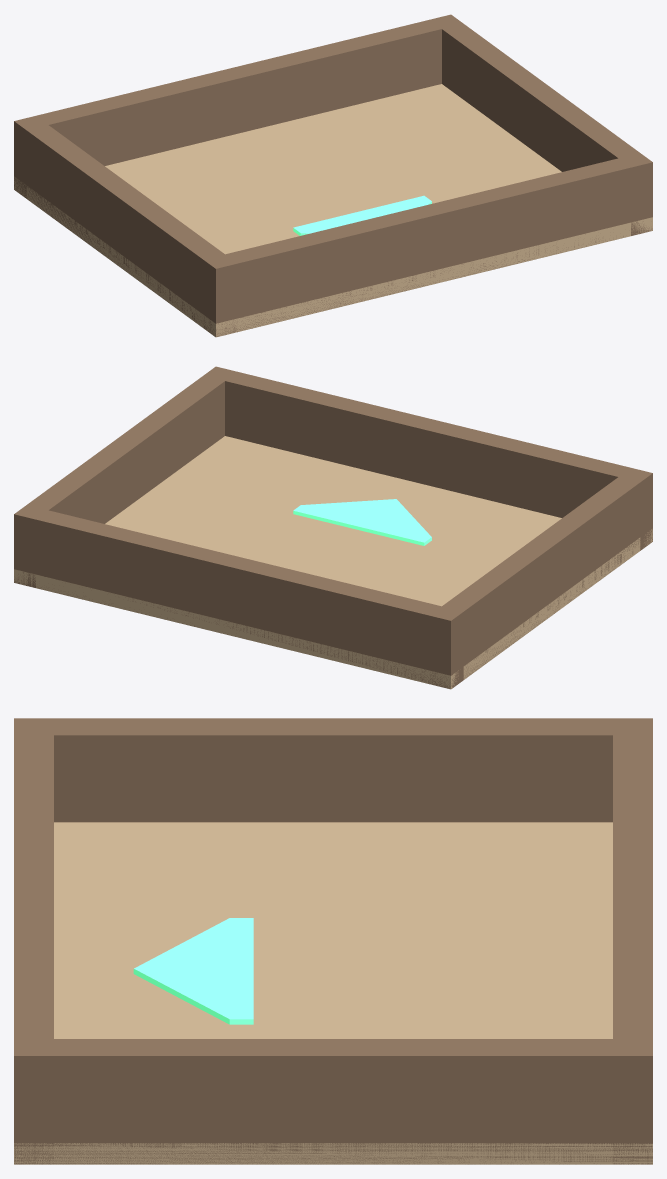
Rendered from tray-out.glb.
3 views of the same model, one above another, from view 1: azimuth 30°, elevation 25°; view 2: azimuth 150°, elevation 25°; view 3: azimuth 270°, elevation 25° (orthographic). The views are drawn at different scales.
Visible parts, largest first — view 1: body; view 2: body; view 3: body.
Part boxes in pixels (<box>): body: <box>14,14,652,337</box>; body: <box>14,366,652,689</box>; body: <box>14,718,652,1164</box>.
Size of the model in its own units: 0.2 by 0.03 by 0.16.
